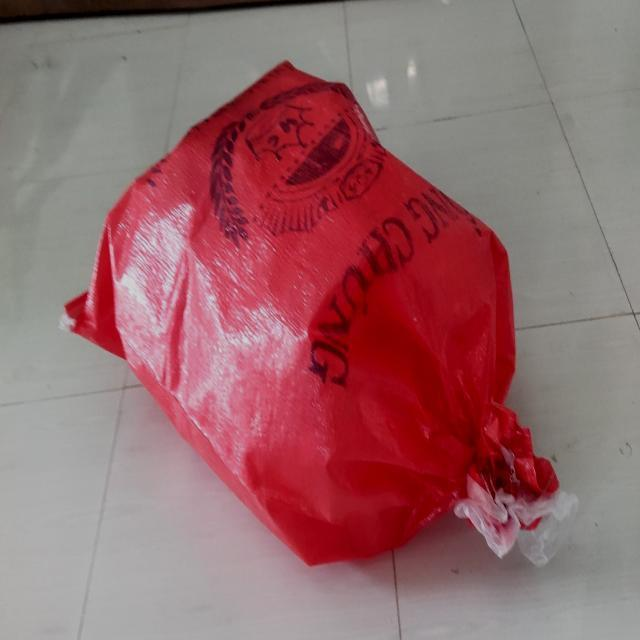gunny_bag: (65, 61, 572, 563)
